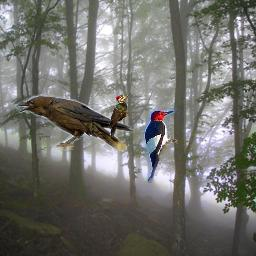Crow: (14, 93, 135, 151)
Woodpecker: (138, 105, 178, 183), (108, 93, 131, 138)
